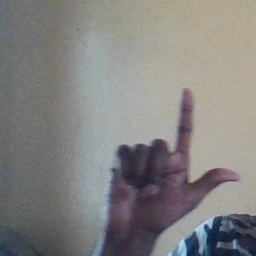L: (102, 87, 243, 237)
